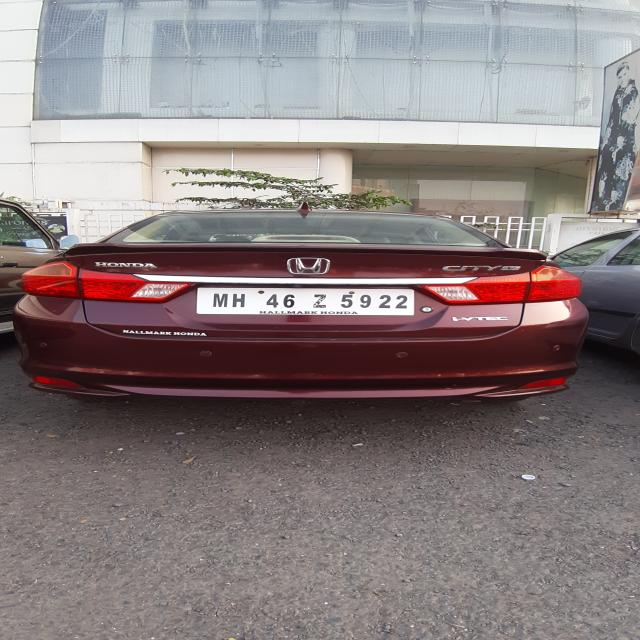Number-Plate: (200, 288, 414, 314)
